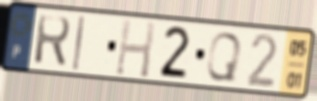2: (243, 32, 279, 89), (158, 24, 193, 82)
H: (113, 17, 158, 81)
I: (71, 14, 87, 73)
Q: (203, 30, 244, 84)
R: (32, 13, 73, 70)
